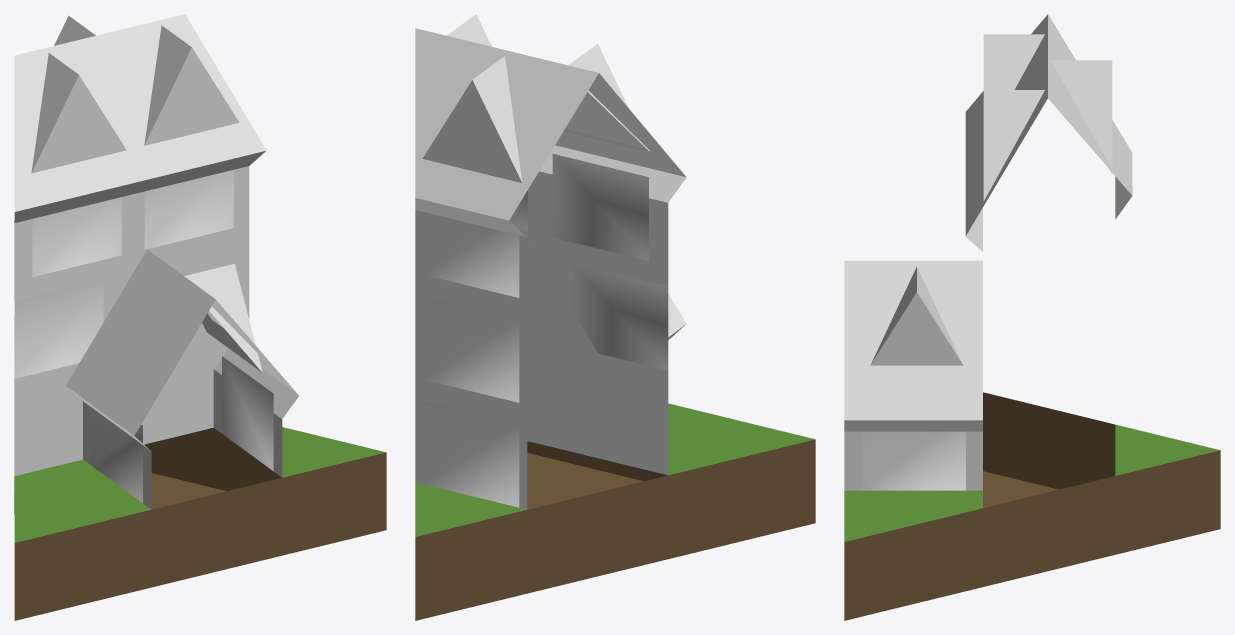
Rendered from Pis_Interseccio_CE_PD_PE.fbx.
The picture shows the model from 3 angles, left to right: view 1: azimuth 30°, elevation 25°; view 2: azimuth 150°, elevation 25°; view 3: azimuth 270°, elevation 25°; orthographic projection. The views are drawn at different scales.
Parts seen in each view (by area): view 1: Pis_Interseccio_CE_PD_PE, DetallParet.092, DetallTeulada.038, DetallTeulada.039, DetallParet.094, DetallParet.093, DetallParet.090, DetallTeulada.046, DetallParet.085, DetallTeulada.044; view 2: Pis_Interseccio_CE_PD_PE, DetallParet.073, DetallParet.072, DetallParet.093, DetallParet.092, DetallTeulada.044, DetallParet.071, DetallTeulada.039, DetallTeulada.038; view 3: Pis_Interseccio_CE_PD_PE, DetallParet.090, DetallTeulada.046, DetallTeulada.038, DetallTeulada.044, DetallTeulada.039.
Boxes of the visible parts, x1,y1,x2,y2 form: Pis_Interseccio_CE_PD_PE: (14,14,386,620); DetallParet.092: (14,279,103,378); DetallTeulada.038: (144,25,239,145); DetallTeulada.039: (31,53,126,173); DetallParet.094: (144,169,233,249); DetallParet.093: (32,197,121,277); DetallParet.090: (222,356,273,471); DetallTeulada.046: (184,263,262,372); DetallParet.085: (91,407,142,502); DetallTeulada.044: (54,15,95,45); Pis_Interseccio_CE_PD_PE: (415,28,815,620); DetallParet.073: (423,400,519,507); DetallParet.072: (423,295,519,402); DetallParet.093: (552,154,648,260); DetallParet.092: (572,263,668,370); DetallTeulada.044: (422,56,522,182); DetallParet.071: (423,212,519,297); DetallTeulada.039: (564,44,649,152); DetallTeulada.038: (447,14,491,46); Pis_Interseccio_CE_PD_PE: (844,14,1220,620); DetallParet.090: (861,431,965,490); DetallTeulada.046: (870,266,963,365); DetallTeulada.038: (983,90,1044,201); DetallTeulada.044: (1051,60,1112,174); DetallTeulada.039: (983,34,1044,89).
Size of the model in its own units: 100 by 120 by 86.6.
